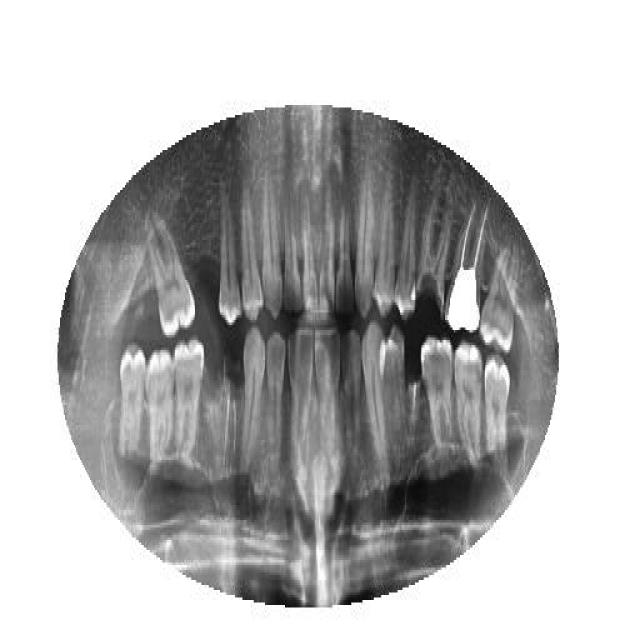Cavity: (412, 187, 453, 325), (221, 345, 245, 467), (404, 375, 421, 453)
Implant: (445, 205, 487, 333)
